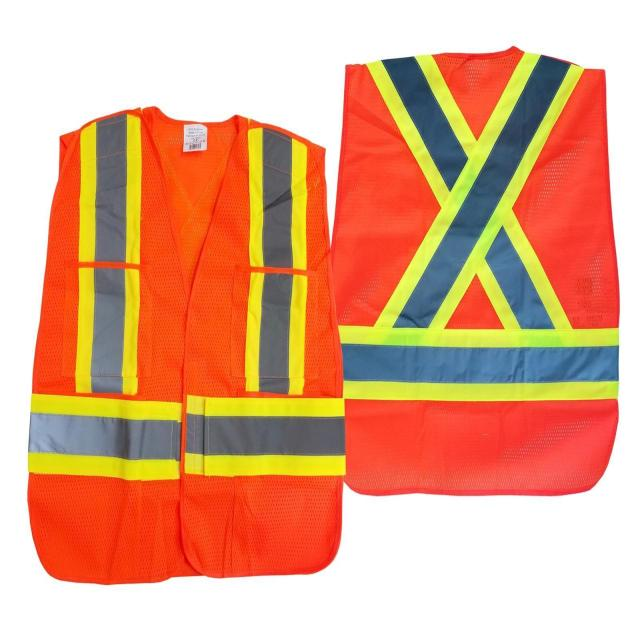Vest: (27, 103, 346, 588), (332, 57, 624, 500)
